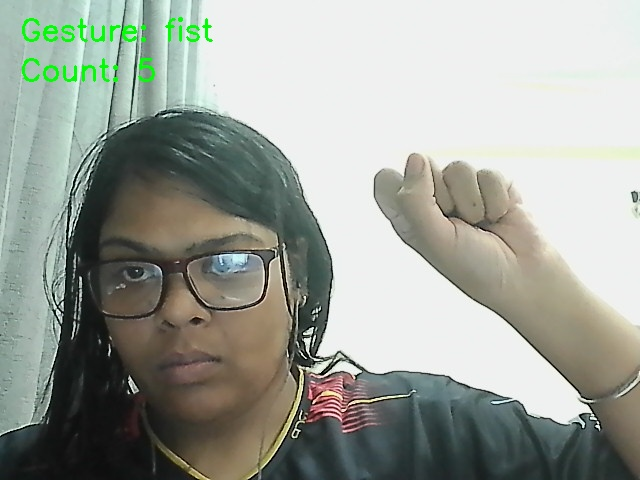fist: (356, 111, 586, 315)
